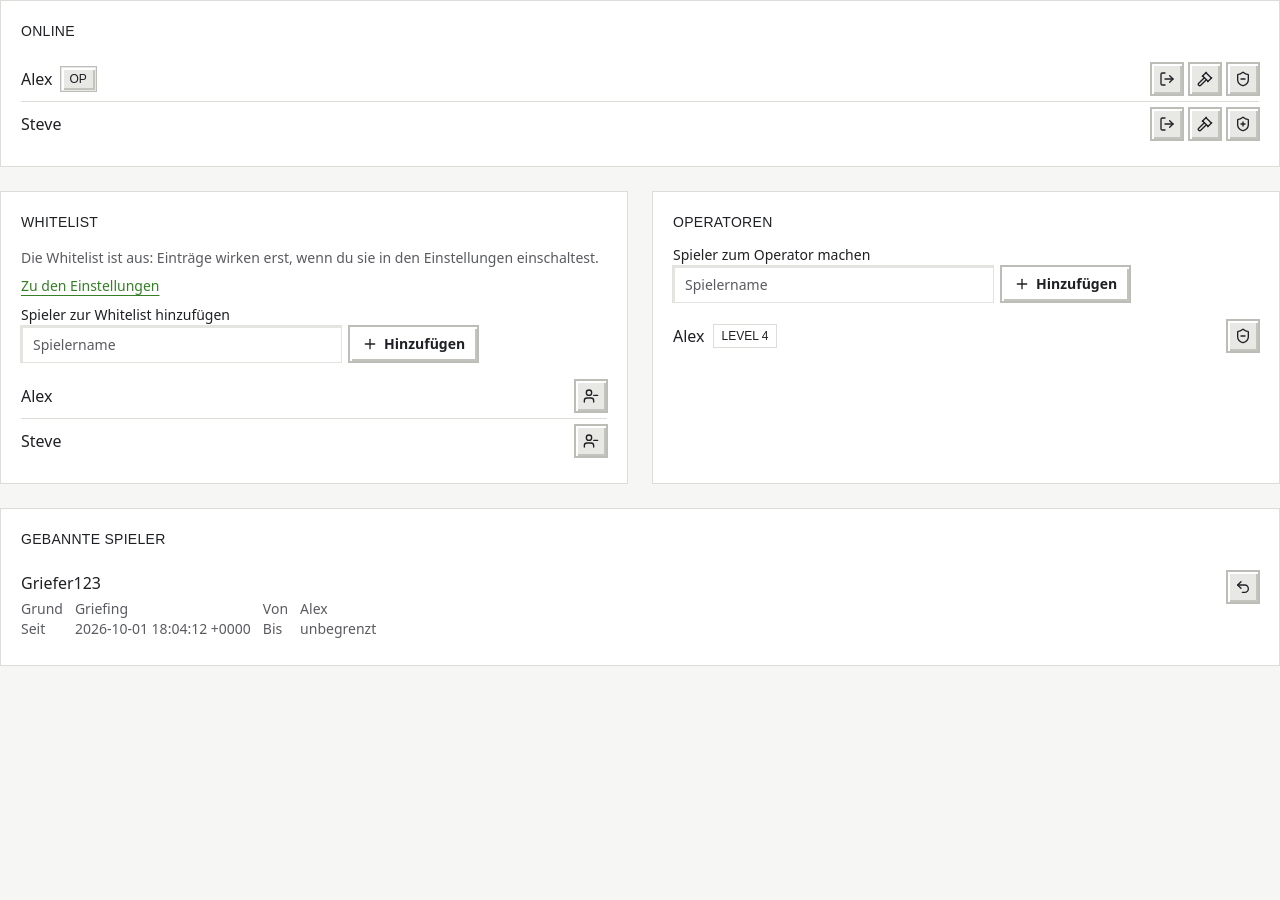
Test case: PlayersTab › kicks a player and refreshes the online list
The width and height of the screenshot is (1280, 900).
Click the button named "Steve kicken": x=1167, y=124 [1151, 108, 1183, 140]
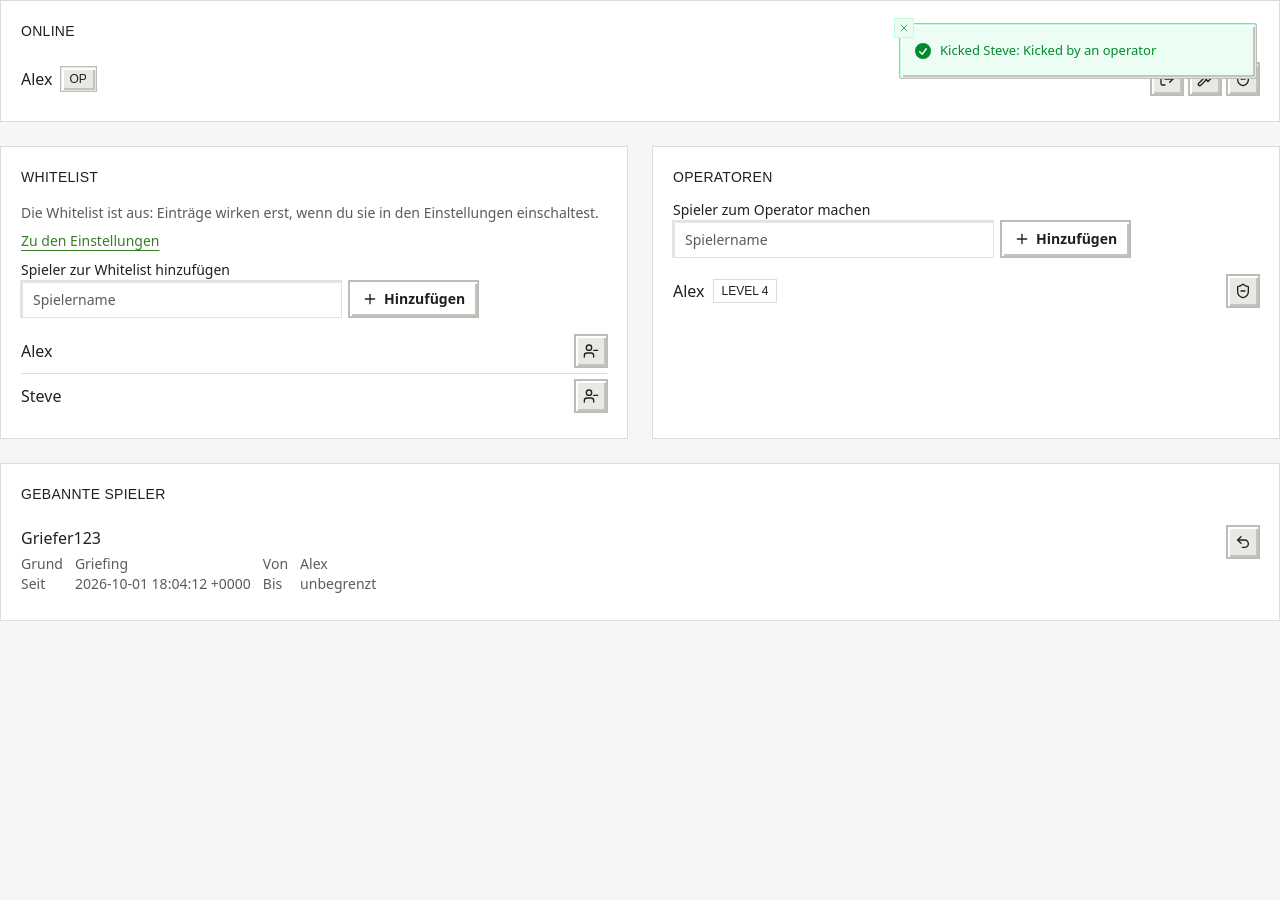
Expected: the text "Kicked Steve: Kicked by an operator" is shown, [940, 41, 1156, 60]
